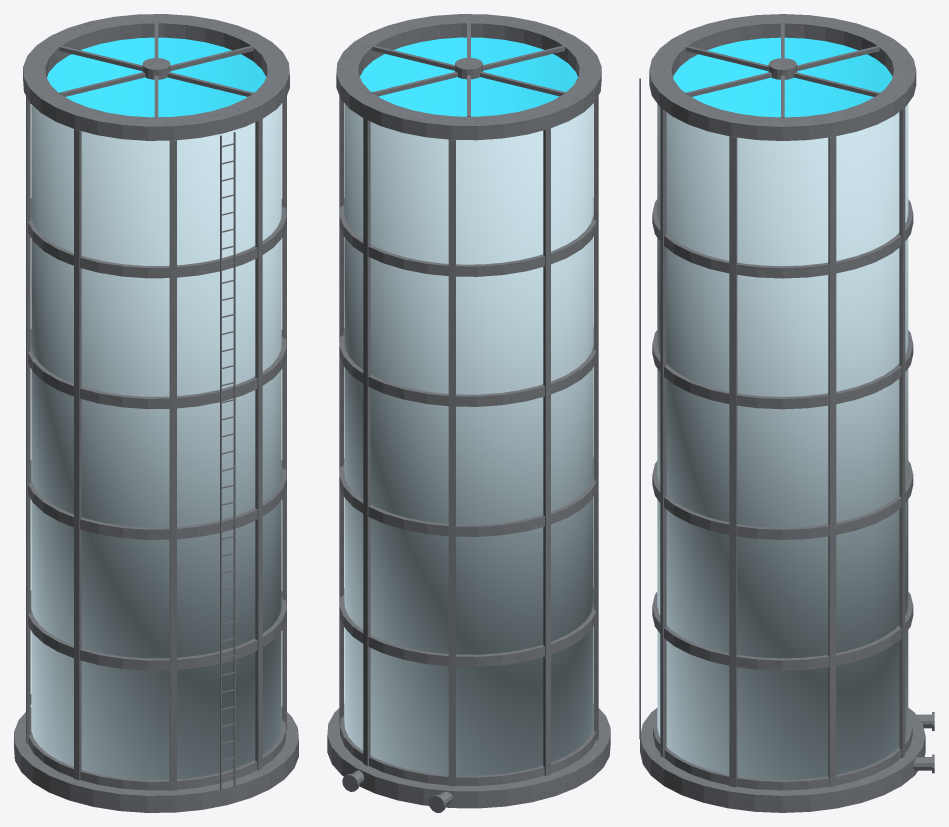
The model's file is water_tank.glb.
3 views of the same model, side by side, from view 1: azimuth 30°, elevation 25°; view 2: azimuth 150°, elevation 25°; view 3: azimuth 270°, elevation 25° (orthographic).
Parts seen in each view (by area): view 1: Glass, Rings, Water; view 2: Glass, Rings, Water; view 3: Glass, Rings, Water.
Part boxes in pixels (x1,y1,x2,y2): Glass: (31, 104, 281, 779); Rings: (14, 14, 298, 812); Water: (47, 37, 265, 117); Glass: (344, 103, 593, 775); Rings: (327, 14, 610, 812); Water: (360, 37, 577, 116); Glass: (657, 104, 908, 779); Rings: (639, 14, 934, 812); Water: (673, 37, 892, 117).
Size of the model in its own units: 9.1 by 24.22 by 9.42.
3 materials, 1 textured.
